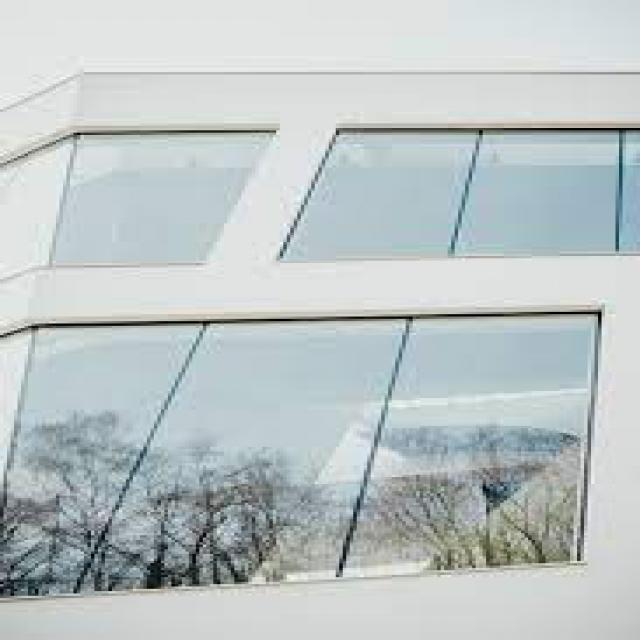Window: (0, 295, 613, 611), (273, 112, 640, 276)
